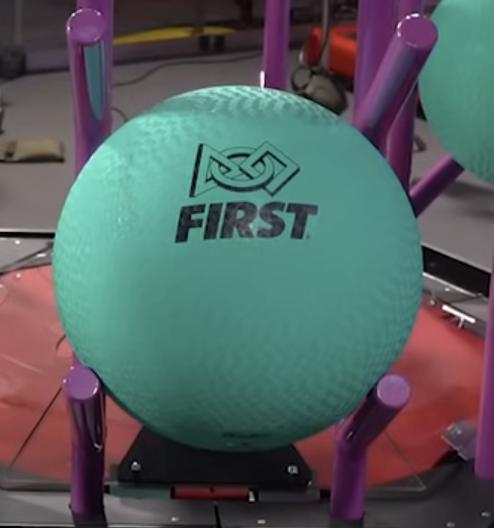algae: (54, 86, 420, 452), (417, 0, 494, 182)
